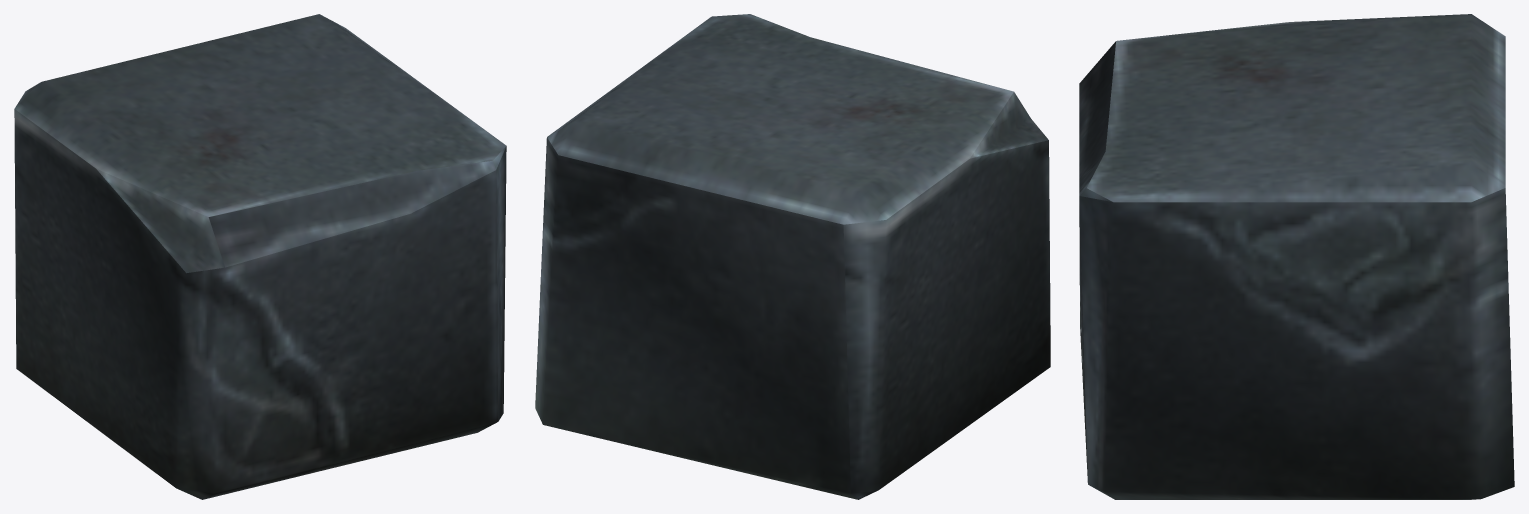
The model's file is B_shikuai006.fbx.
The picture shows the model from 3 angles, left to right: view 1: azimuth 30°, elevation 25°; view 2: azimuth 150°, elevation 25°; view 3: azimuth 270°, elevation 25°; orthographic projection. The views are drawn at different scales.
Parts seen in each view (by area): view 1: B_shikuai006; view 2: B_shikuai006; view 3: B_shikuai006.
Boxes of the visible parts, x1,y1,x2,y2 form: B_shikuai006: [14, 14, 506, 499]; B_shikuai006: [535, 14, 1050, 499]; B_shikuai006: [1079, 14, 1514, 499].
Size of the model in its own units: 53.42 by 45.47 by 53.42.
